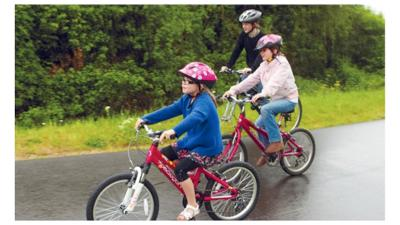With Helmet: (176, 58, 219, 99), (256, 31, 285, 62), (238, 8, 264, 33)
